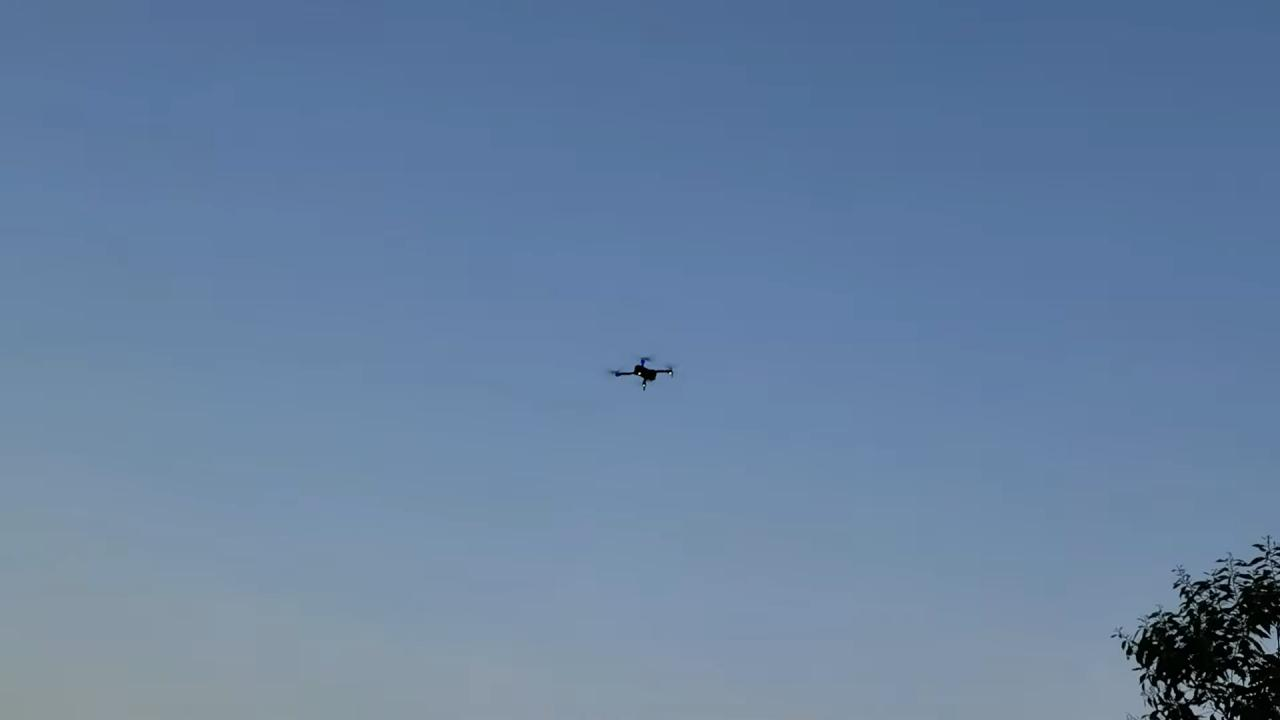Drone: (597, 342, 690, 402)
